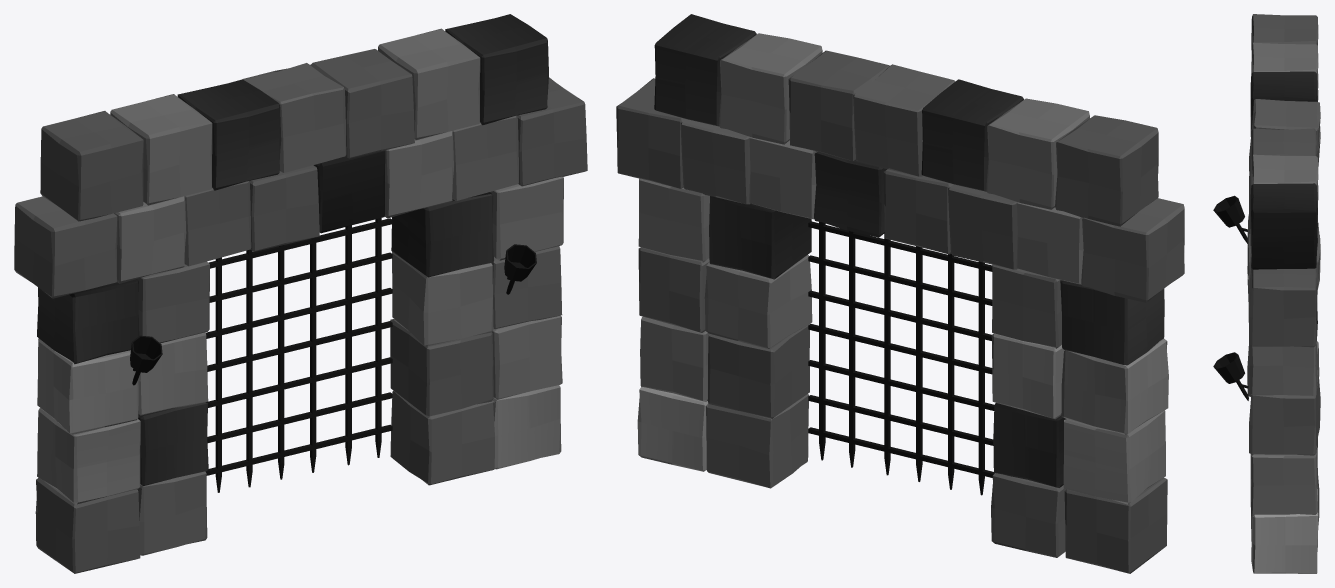
File: Gate_Big.glb
3 renders of one model, left to right at view 1: azimuth 30°, elevation 25°; view 2: azimuth 150°, elevation 25°; view 3: azimuth 270°, elevation 25°, orthographic. The views are drawn at different scales.
Visible parts, largest first — view 1: Gate, Grille; view 2: Gate, Grille; view 3: Gate.
Part boxes in pixels (<box>): Gate: <box>14,14,587,573</box>; Grille: <box>205,218,392,492</box>; Gate: <box>616,14,1184,573</box>; Grille: <box>808,221,994,495</box>; Gate: <box>1213,14,1320,573</box>.
Bounding box in the file's own units: 16.11 × 12.08 × 3.27.
Materials: 1 (1 with a texture image).
